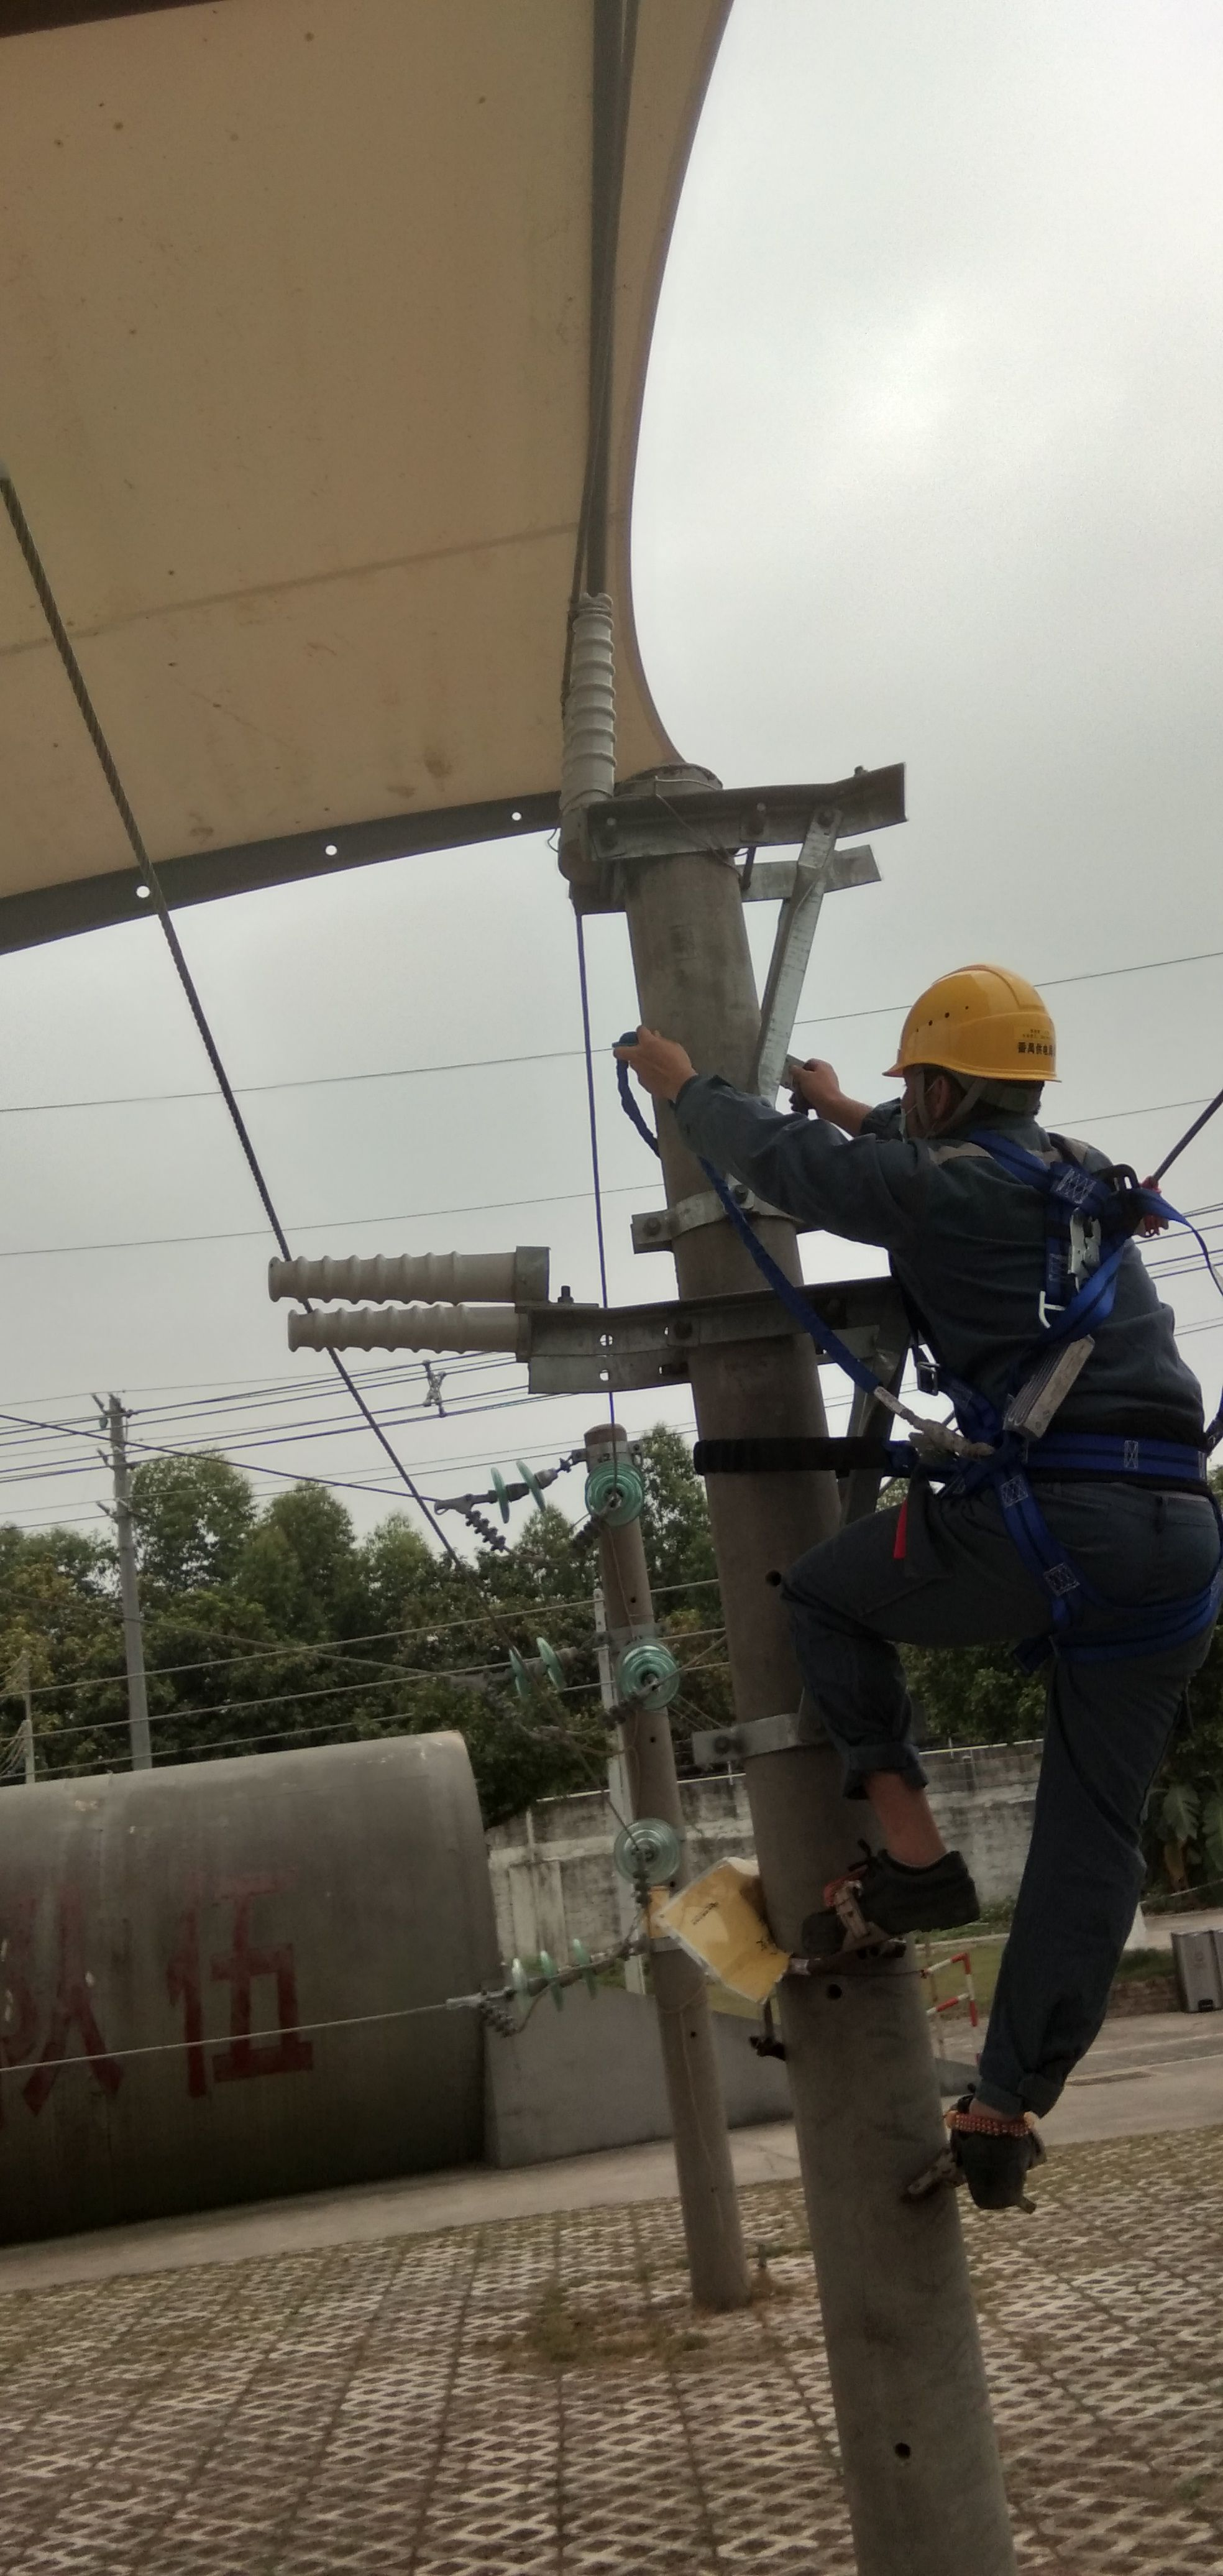downsuit: (778, 1479, 1213, 2103)
upsuit: (676, 1092, 1203, 1447)
wrongbottom: (839, 1690, 950, 1873)
